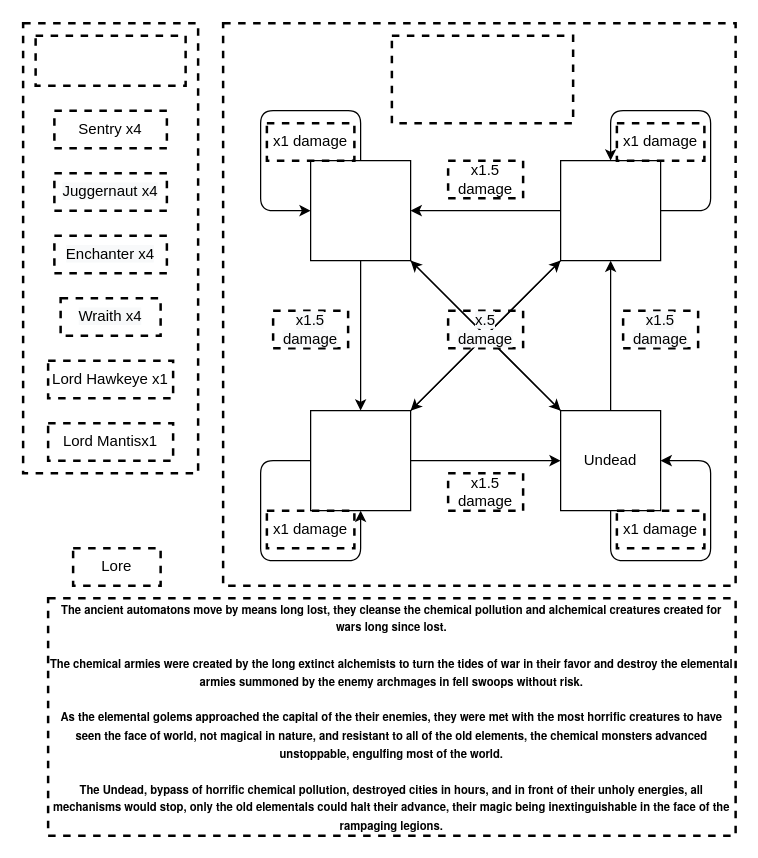
Some shapes in this 758 by 858 pixel diagram are drawn without their labels. The centre of each missing label's shape, as x and y in pixels:
Automaton: (x=610, y=210)
Chemical: (x=360, y=210)
Elemental: (x=360, y=460)
NATION x4: (x=110, y=60)
Nations and Effects: (x=482, y=79)
